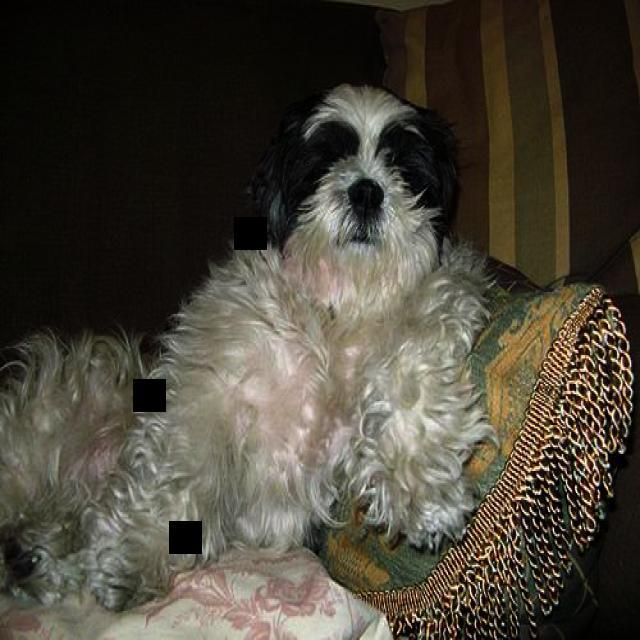adult_dog: (1, 87, 499, 610)
